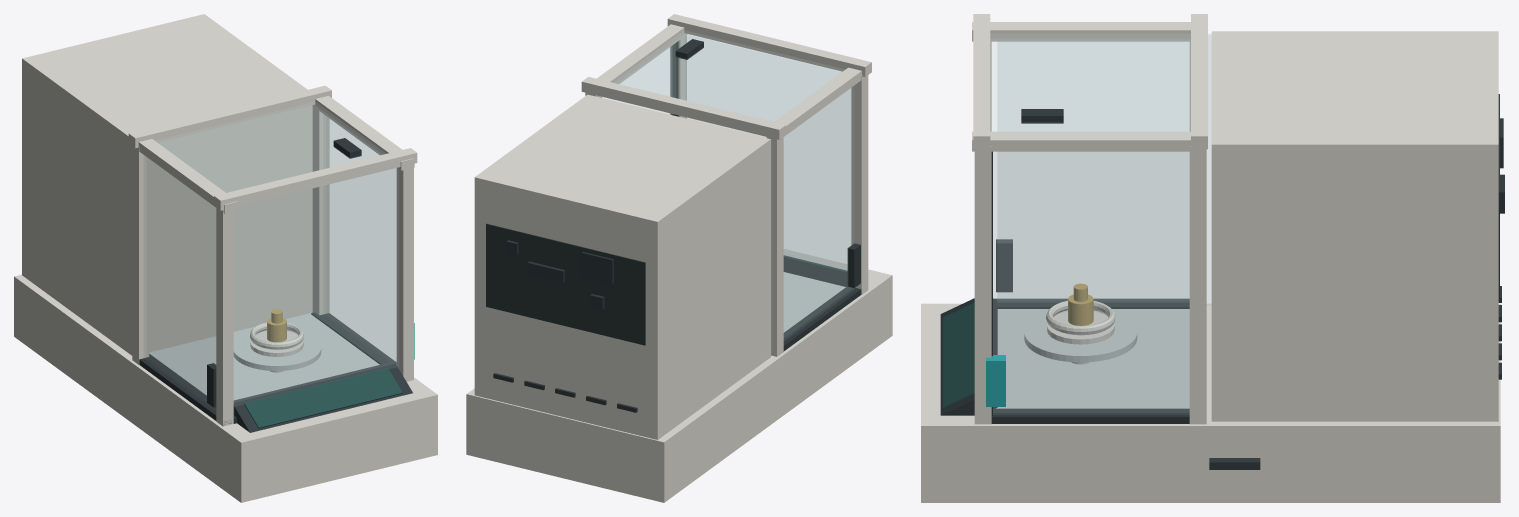
3 renders of one model, left to right at view 1: azimuth 30°, elevation 25°; view 2: azimuth 150°, elevation 25°; view 3: azimuth 270°, elevation 25°, orthographic. The views are drawn at different scales.
Visible parts, largest first — view 1: rear_column, draft_glazing_front, housing_envelope_base, fixed_left_door, right_draft_glazing, top_draft_glazing, chamber_floor, display_glass, chamber_post, chamber_post.001, chamber_post.002, chamber_post.003 (+10 smaller); view 2: rear_column, housing_envelope_base, draft_glazing_front, fixed_left_door, rear_connection_plate, top_draft_glazing, front_rear_top_rail.001, chamber_post, front_rear_top_rail, chamber_post.001, chamber_floor, door_upper_rail (+8 smaller); view 3: rear_column, right_draft_glazing, housing_envelope_base, fixed_left_door, top_draft_glazing, chamber_floor, chamber_post.003, chamber_post.002, door_upper_rail.001, door_upper_rail, door_lower_rail.001, weighing_pan (+11 smaller).
Part boxes in pixels (<box>): rear_column: <box>22,14,312,355</box>; draft_glazing_front: <box>234,168,398,406</box>; housing_envelope_base: <box>14,274,437,502</box>; fixed_left_door: <box>144,156,215,409</box>; right_draft_glazing: <box>326,116,395,362</box>; top_draft_glazing: <box>157,103,385,192</box>; chamber_floor: <box>149,313,379,400</box>; display_glass: <box>244,368,402,428</box>; chamber_post: <box>216,208,233,426</box>; chamber_post.001: <box>132,146,149,364</box>; chamber_post.002: <box>396,168,413,381</box>; chamber_post.003: <box>312,106,329,315</box>; rear_column: <box>474,94,770,439</box>; housing_envelope_base: <box>466,249,892,502</box>; draft_glazing_front: <box>685,34,850,271</box>; fixed_left_door: <box>771,86,854,352</box>; rear_connection_plate: <box>486,223,645,345</box>; top_draft_glazing: <box>614,31,843,121</box>; front_rear_top_rail.001: <box>581,77,785,139</box>; chamber_post: <box>851,75,868,294</box>; front_rear_top_rail: <box>667,14,871,76</box>; chamber_post.001: <box>766,137,783,356</box>; chamber_floor: <box>783,272,845,332</box>; door_upper_rail: <box>774,67,861,136</box>; rear_column: <box>1211,31,1498,421</box>; right_draft_glazing: <box>993,152,1189,414</box>; housing_envelope_base: <box>921,303,1500,502</box>; fixed_left_door: <box>998,34,1211,305</box>; top_draft_glazing: <box>990,34,1190,131</box>; chamber_floor: <box>996,309,1189,408</box>; chamber_post.003: <box>1189,146,1206,424</box>; chamber_post.002: <box>974,146,991,424</box>; door_upper_rail.001: <box>972,131,1190,151</box>; door_upper_rail: <box>972,22,1190,41</box>; door_lower_rail.001: <box>991,408,1189,423</box>; weighing_pan: <box>1024,310,1137,362</box>.
Bounding box in the file's own units: 0.212 × 0.29 × 0.413.
